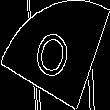O_SW: (32, 22, 78, 88)
